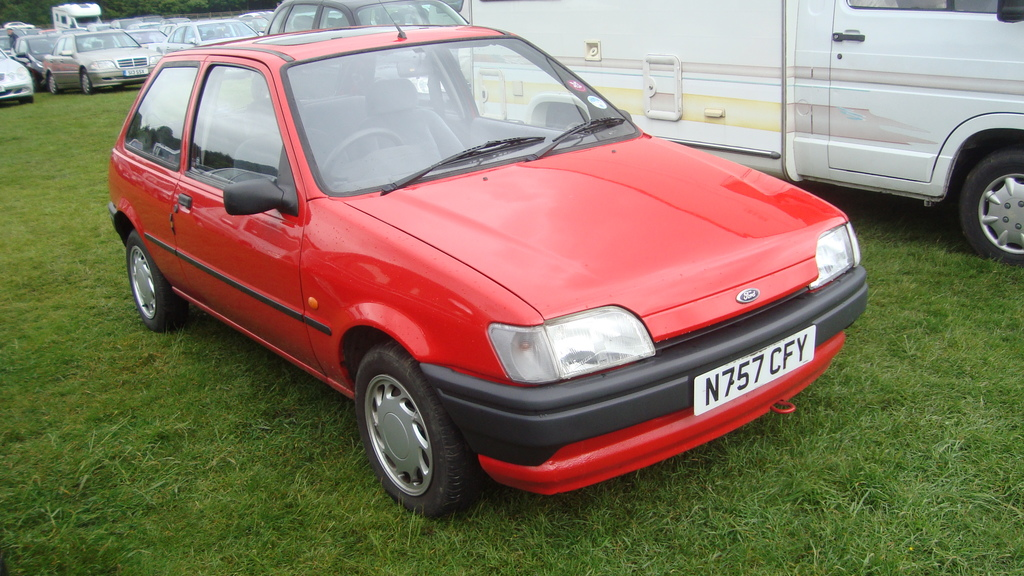Car: (110, 0, 871, 519), (0, 0, 472, 101)
